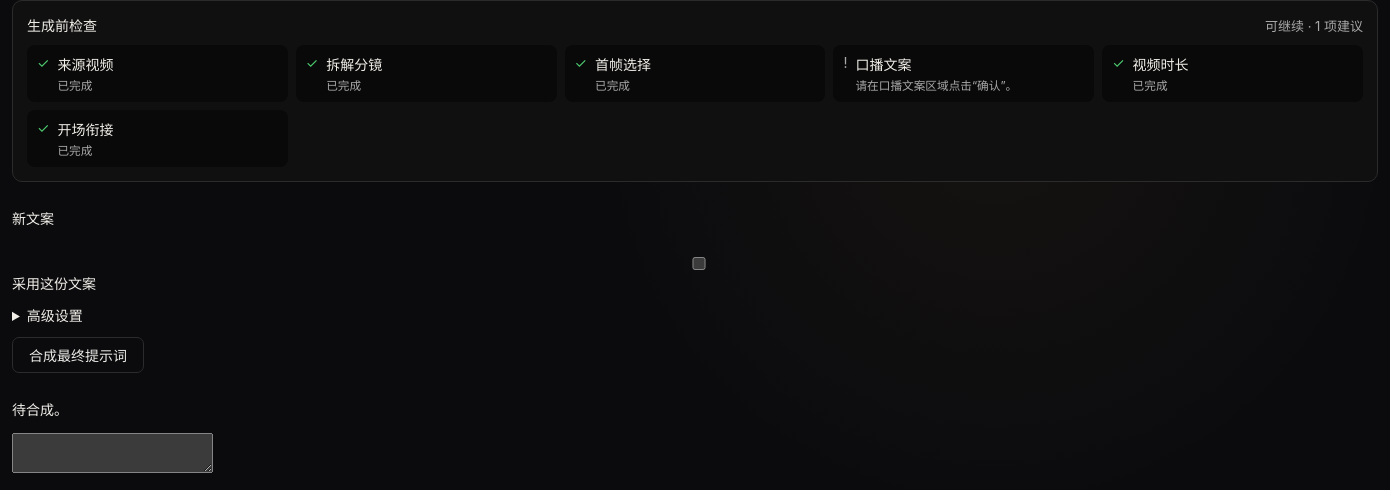
最终提示词后置 › 重新合成失败时回滚原有终稿，不弄丢已就绪的稿子
What coordinates should you click on to do the following:
click the checkbox labelled "采用这份文案"
I would click on:
 (697, 264)
Its box is [16,257,1378,270].
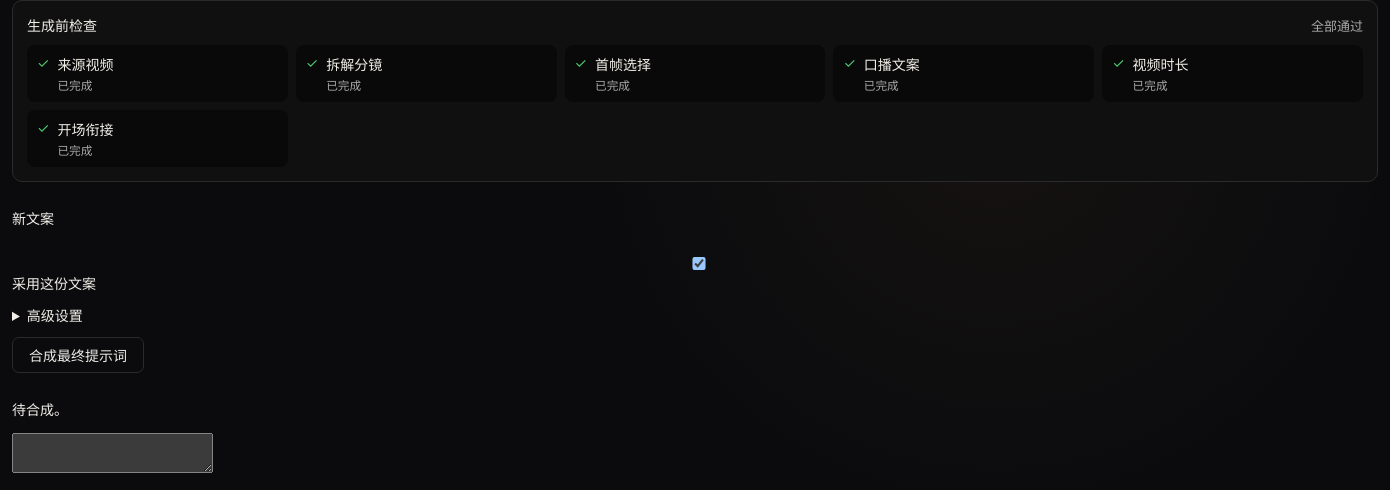
What coordinates should you click on to do the following:
click the button "合成最终提示词"
I would click on:
 (78, 355)
Its box is [12,337,144,373].
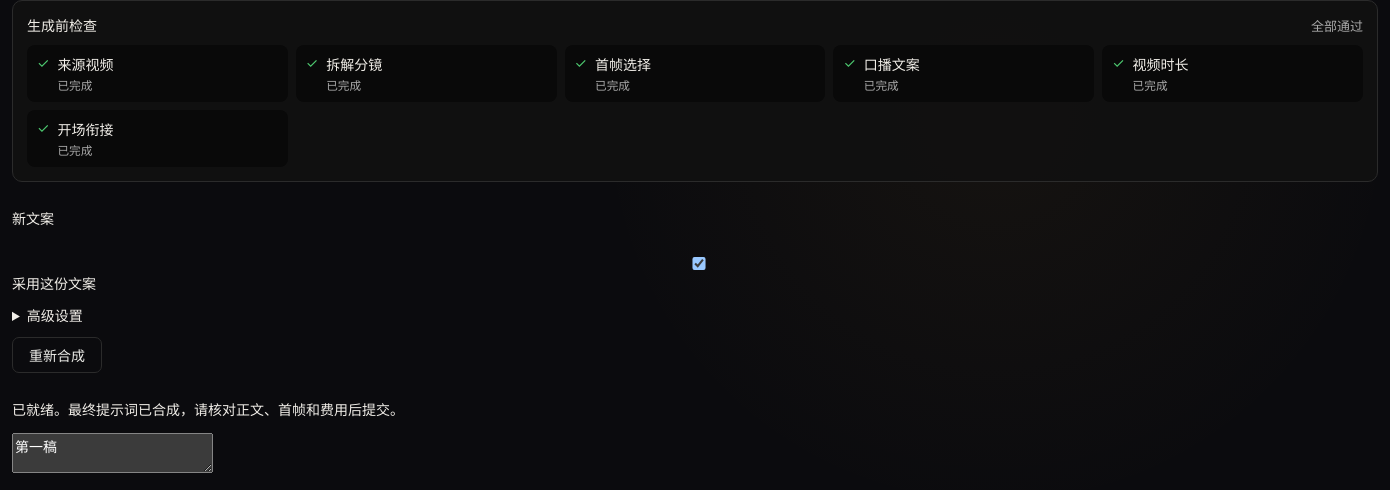
Now the text box named "最终正文" holds "第一稿", box [12,433,213,473]
Now the text "已就绪。最终提示词已合成，请核对正文、首帧和费用后提交。" is shown, box [12,401,404,418]
What coordinates should you click on to do the following:
click the button "重新合成"
I would click on:
 (57, 355)
Its box is [12,337,102,373].
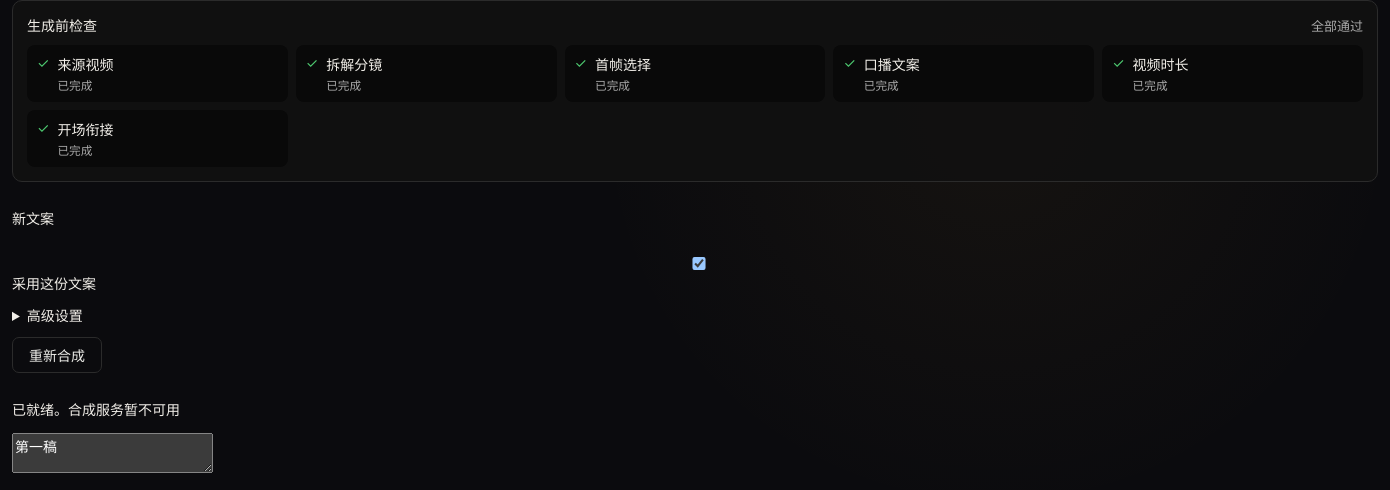
Now the text "已就绪。合成服务暂不可用" is shown, box [12,401,180,418]
Now the button "重新合成" is shown, box [12,337,102,373]
Now the message shows "合成服务暂不可用", box [68,401,180,418]
